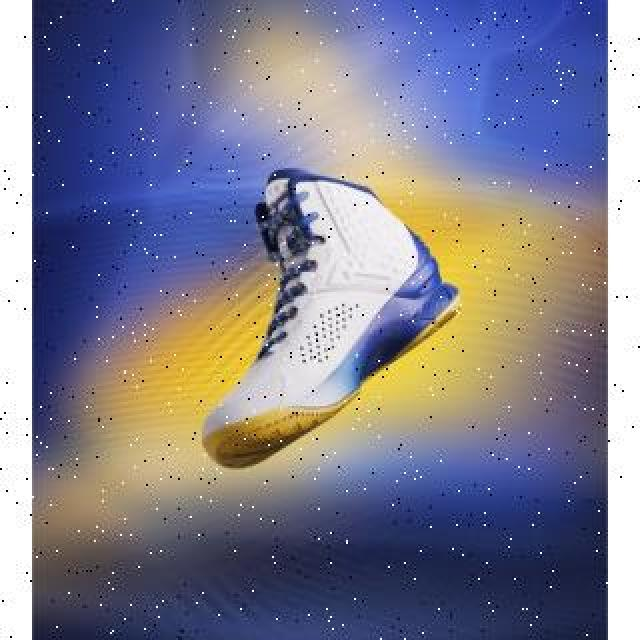shoe: (203, 166, 457, 468)
